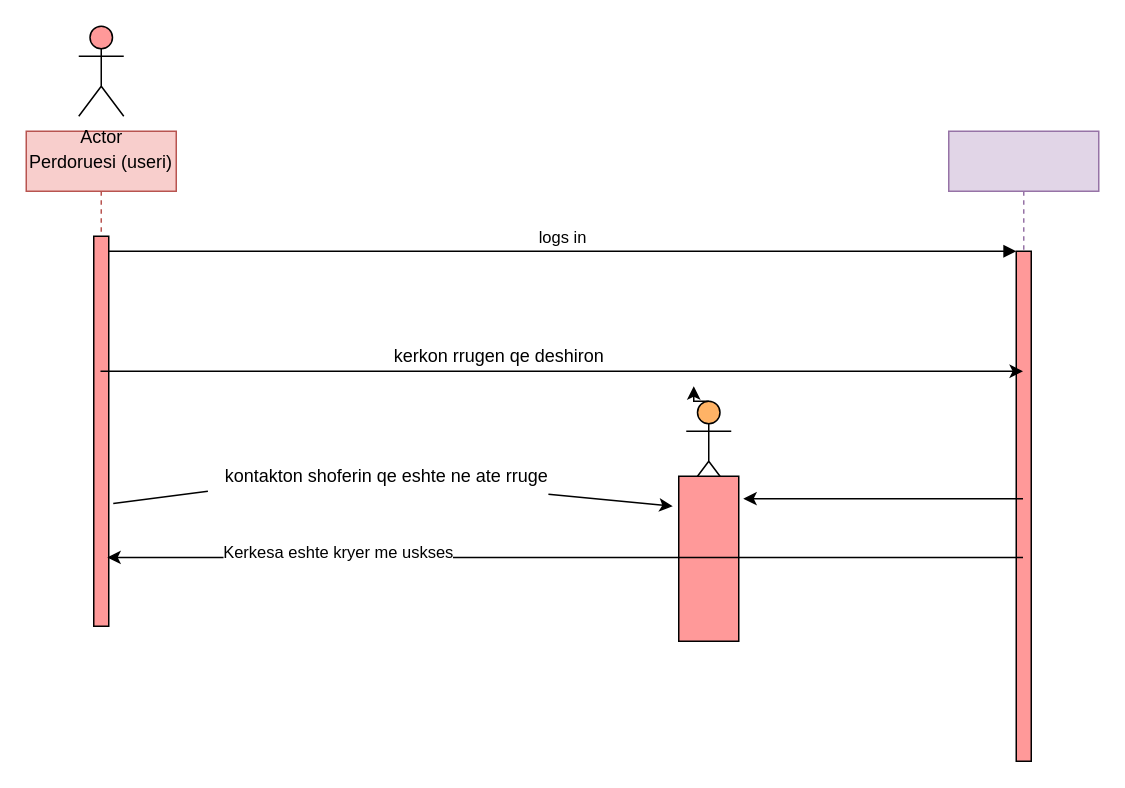
Image size: 1125x788. Some labels were removed from this diagram. Here are the shapes that lost their labels. From the top down, the centre of each, then its label:
(x=1023, y=445): Web app
(x=708, y=558): Shoferi
